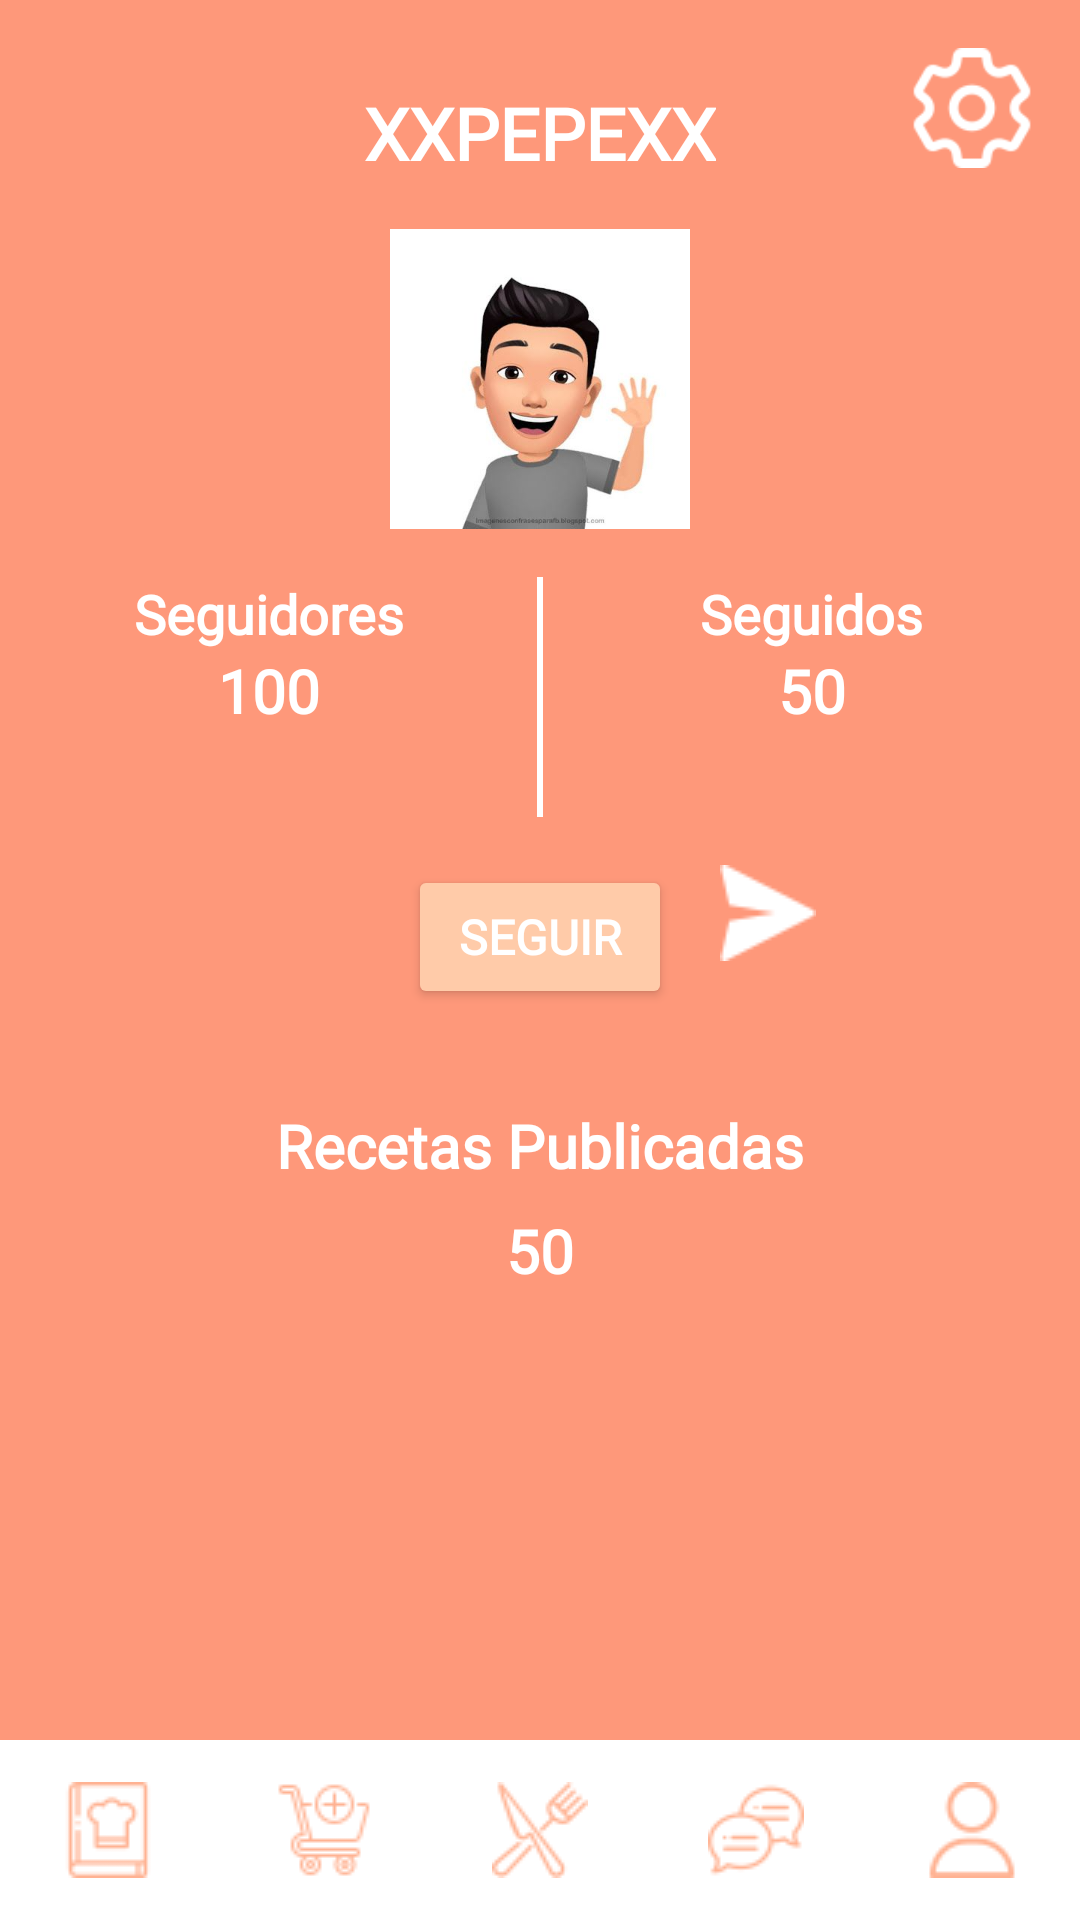

Icon click points for this 1080*1920 phone screenshot, format [x,y]:
ajustes: [972,108]
carrito: [324,1830]
chat: [756,1830]
cocina: [540,1830]
enviar mensaje: [768,913]
usuario: [972,1830]
